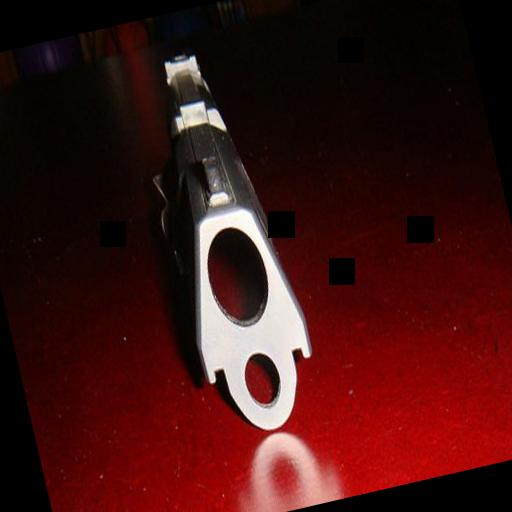Handgun: (117, 35, 328, 443)
